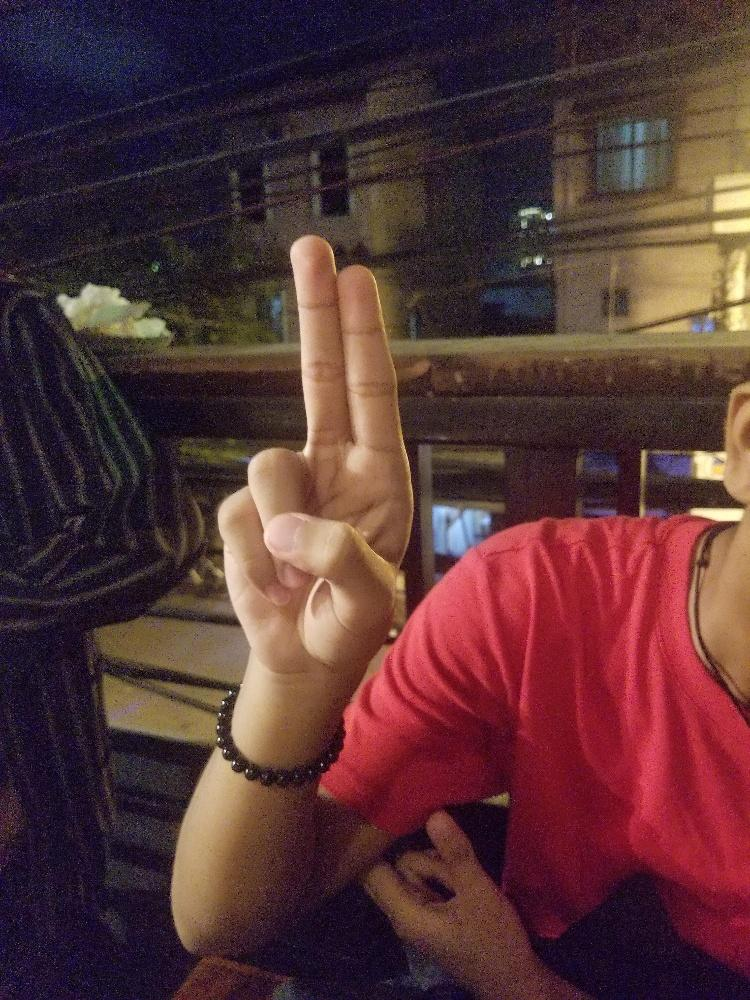u: (219, 234, 414, 671)
